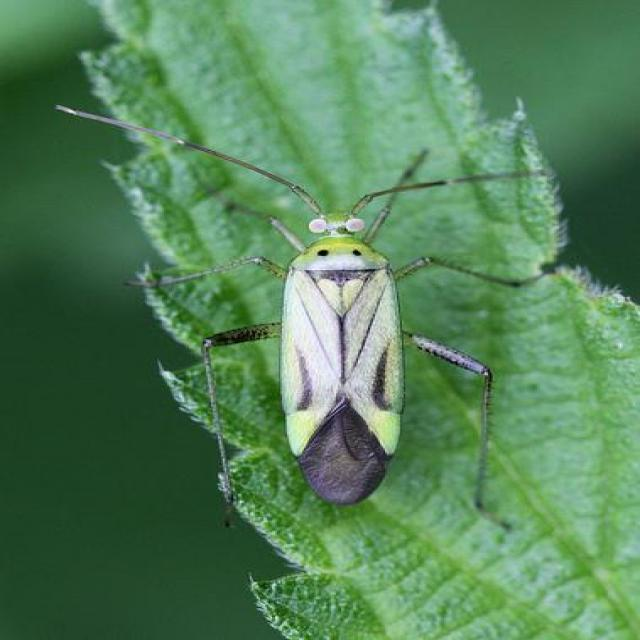Miridae-Adult-: (157, 94, 538, 543)
